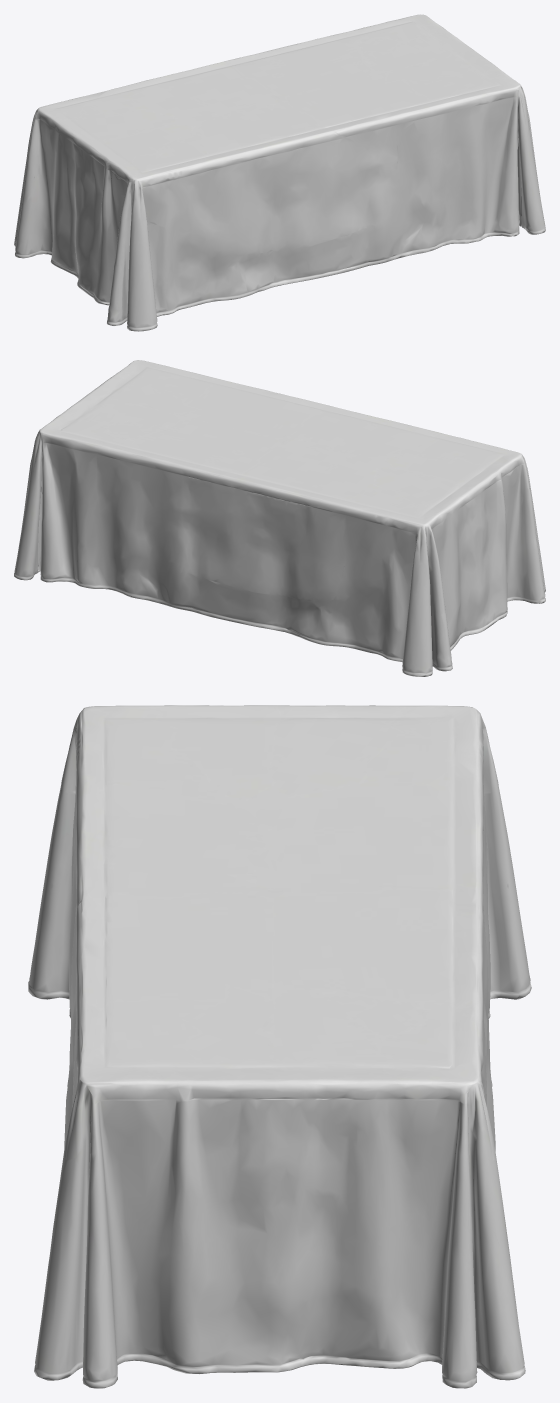
File: table-banquet-240.glb
3 views of the same model, one above another, from view 1: azimuth 30°, elevation 25°; view 2: azimuth 150°, elevation 25°; view 3: azimuth 270°, elevation 25° (orthographic). The views are drawn at different scales.
Parts seen in each view (by area): view 1: tripo_node_7573ce56-118a-4895-bf27-3d6c876b1f04; view 2: tripo_node_7573ce56-118a-4895-bf27-3d6c876b1f04; view 3: tripo_node_7573ce56-118a-4895-bf27-3d6c876b1f04.
Part boxes in pixels (box(x1,y1,x2,y2)): tripo_node_7573ce56-118a-4895-bf27-3d6c876b1f04: box(14, 14, 545, 331); tripo_node_7573ce56-118a-4895-bf27-3d6c876b1f04: box(14, 360, 545, 676); tripo_node_7573ce56-118a-4895-bf27-3d6c876b1f04: box(28, 705, 531, 1388).
Bounding box in the file's own units: 2.4 × 0.7501 × 1.2.
1 material, 1 textured.
